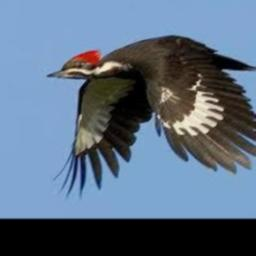Woodpecker: (47, 35, 256, 201)
